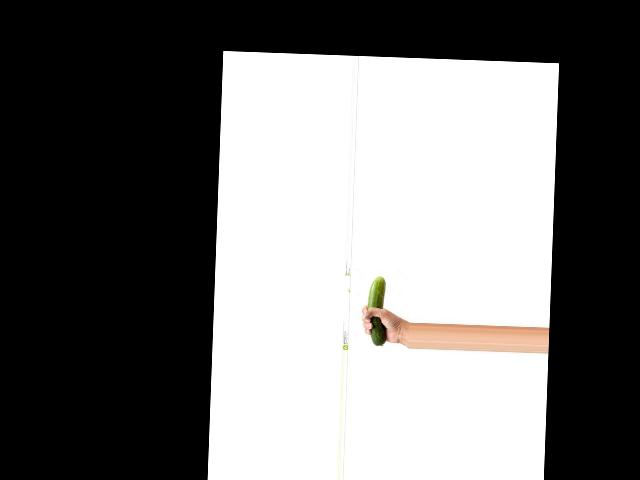cucumber: (365, 275, 387, 345)
